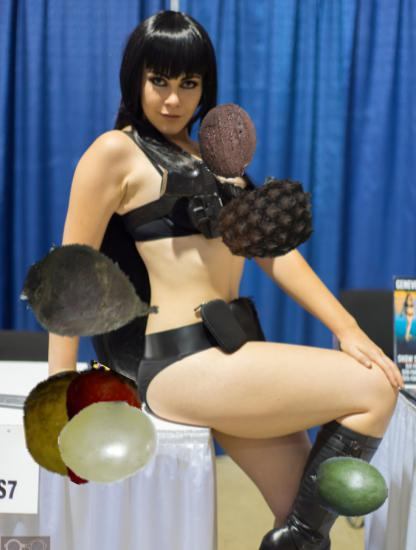Beetroot: (20, 224, 168, 372)
Cocos: (188, 101, 267, 180)
Grape: (58, 392, 159, 493)
Guava: (21, 360, 148, 487)
Mango: (310, 448, 389, 527)
Pineapple: (216, 169, 321, 274)
Strawberry: (32, 366, 151, 485)
